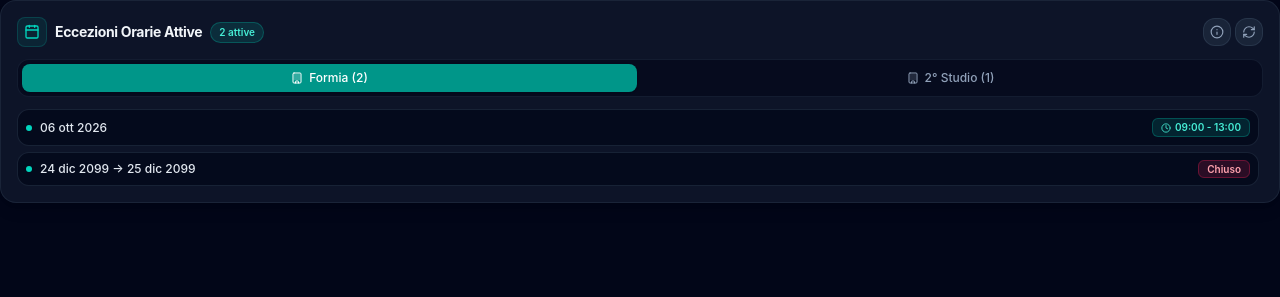
Test: ActiveExceptions Component › toggles the 3-minute cache info banner when clicking info icon
Expected: the text "Nota di sincronizzazione:" is not shown
Note: Click to open
Click the button named "Informazioni sulla cache del sito" at [1217, 32], box x1=1203 y1=18 x2=1231 y2=46
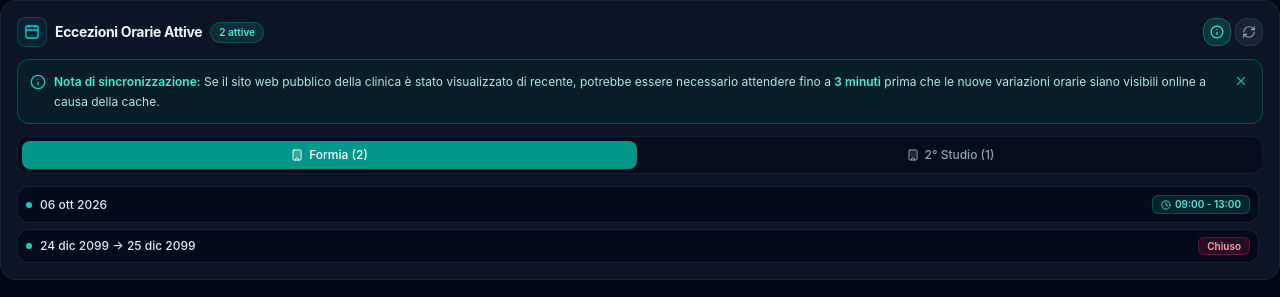
Now the text "Nota di sincronizzazione:" is shown, box x1=54 y1=74 x2=201 y2=89
Now the text "3 minuti" is shown, box x1=834 y1=74 x2=881 y2=89
Note: Click close button inside banner
Click the button named "Chiudi avviso" at [1241, 81], box x1=1232 y1=72 x2=1250 y2=90
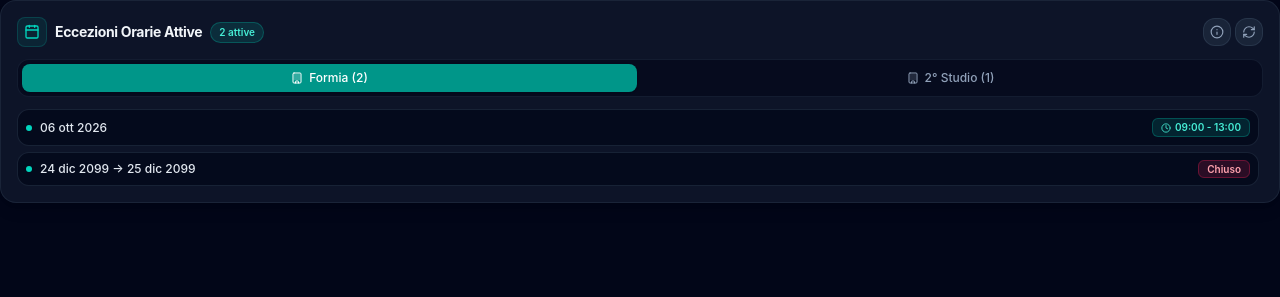
Now the text "Nota di sincronizzazione:" is gone
